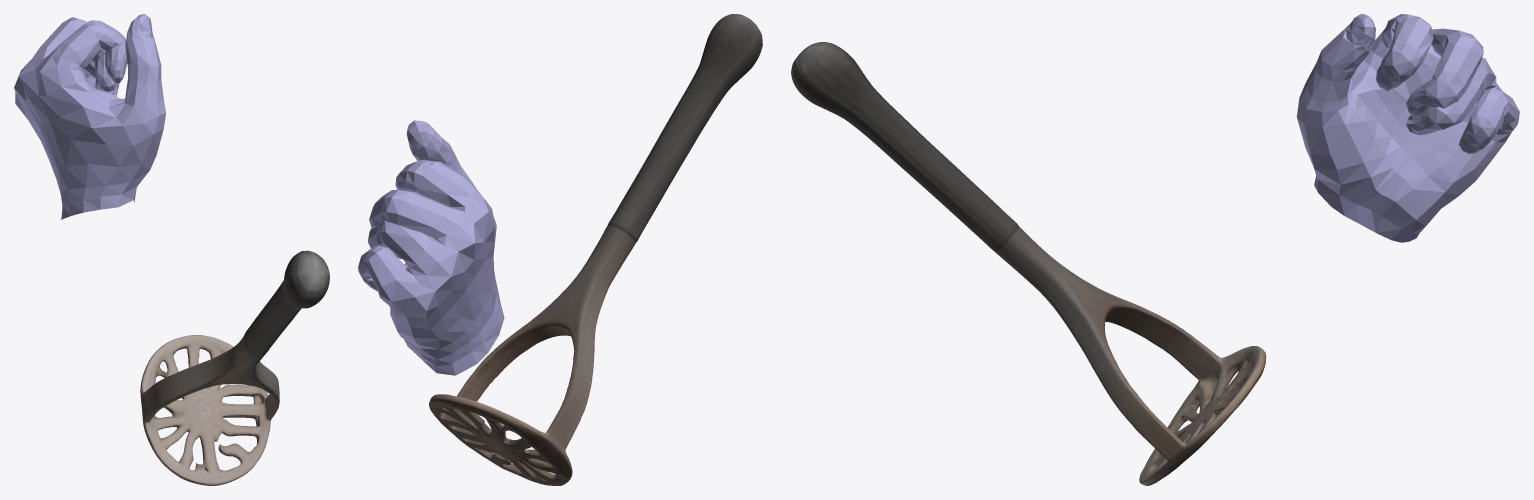
File: frame_0075_source_000075_hand_object.glb
3 views of the same model, side by side, from view 1: azimuth 30°, elevation 25°; view 2: azimuth 150°, elevation 25°; view 3: azimuth 270°, elevation 25° (orthographic). The views are drawn at different scales.
Visible parts, largest first — view 1: world; view 2: world; view 3: world.
Part boxes in pixels (left/top/right/bottom): world: left=14, top=14, right=329, bottom=485; world: left=358, top=14, right=762, bottom=485; world: left=791, top=14, right=1519, bottom=485.
Size of the model in its own units: 0.0874 by 0.2361 by 0.332.
